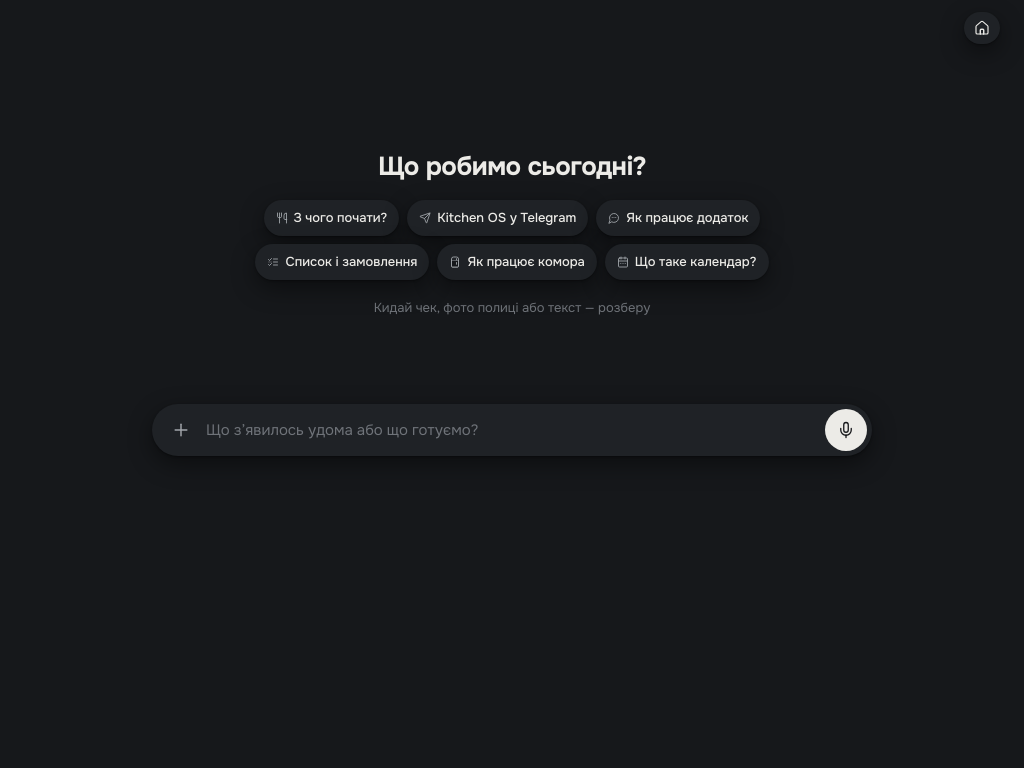
Test case: довідки · «?» у шапці › порожній чат — «?» нема; після першої репліки — є
This screenshot has width=1024, height=768.
Step 1. Click the button "Як працює додаток" → (678, 218), box [596, 200, 760, 236]
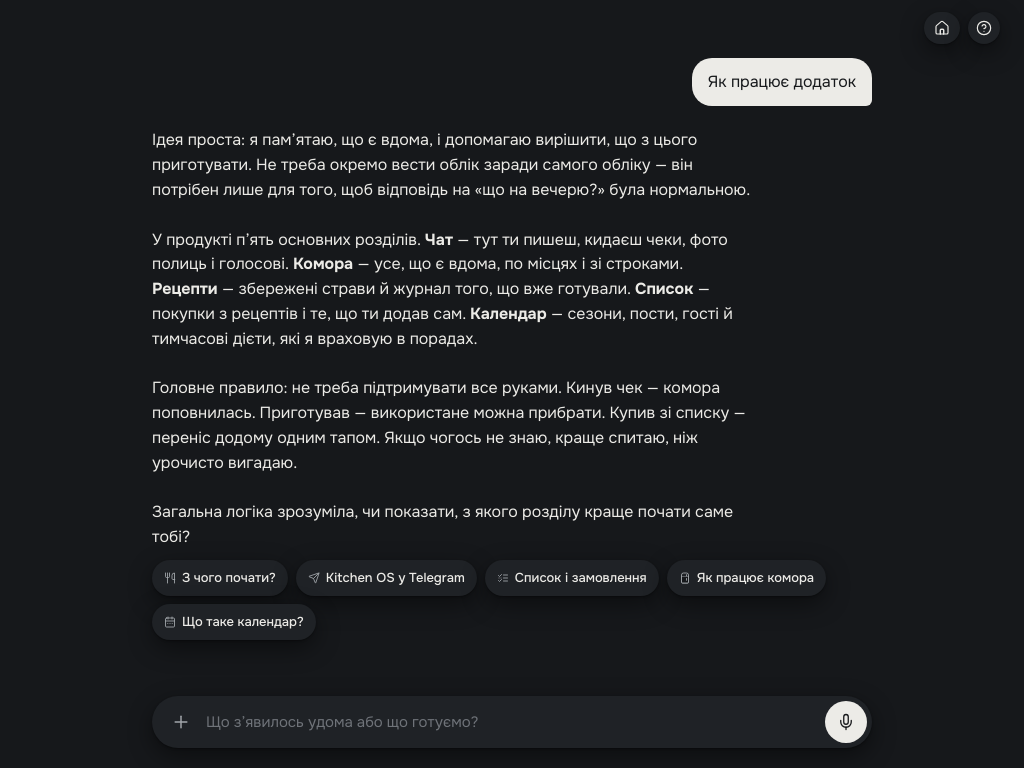
expect the button named "Довідка" is shown: met, box [968, 12, 1000, 44]
